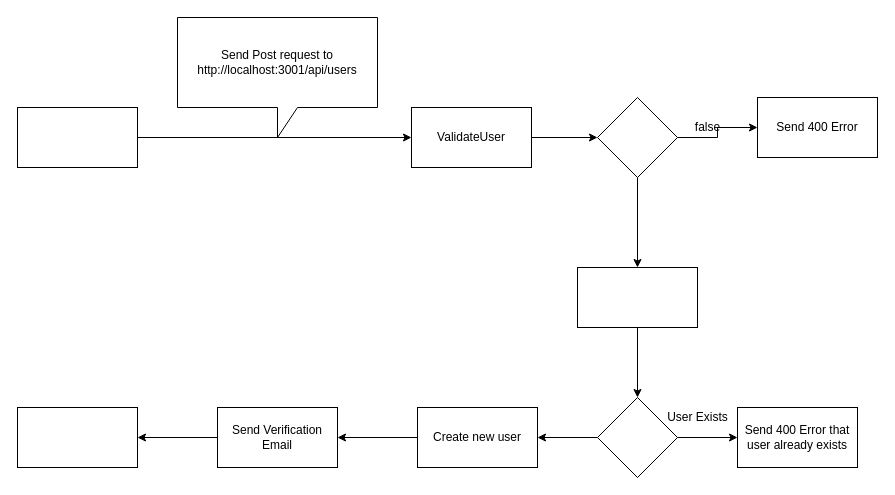
Some shapes in this 895 by 495 pixel diagram are drawn without their labels. The shapes that lost their labels are listed below. From the top down, each one's centre as x and y in pixels, then its label:
point (77, 137): Dashbord Signup with Email and Password
point (637, 297): Find that user with email Id
point (77, 437): Send success Message
